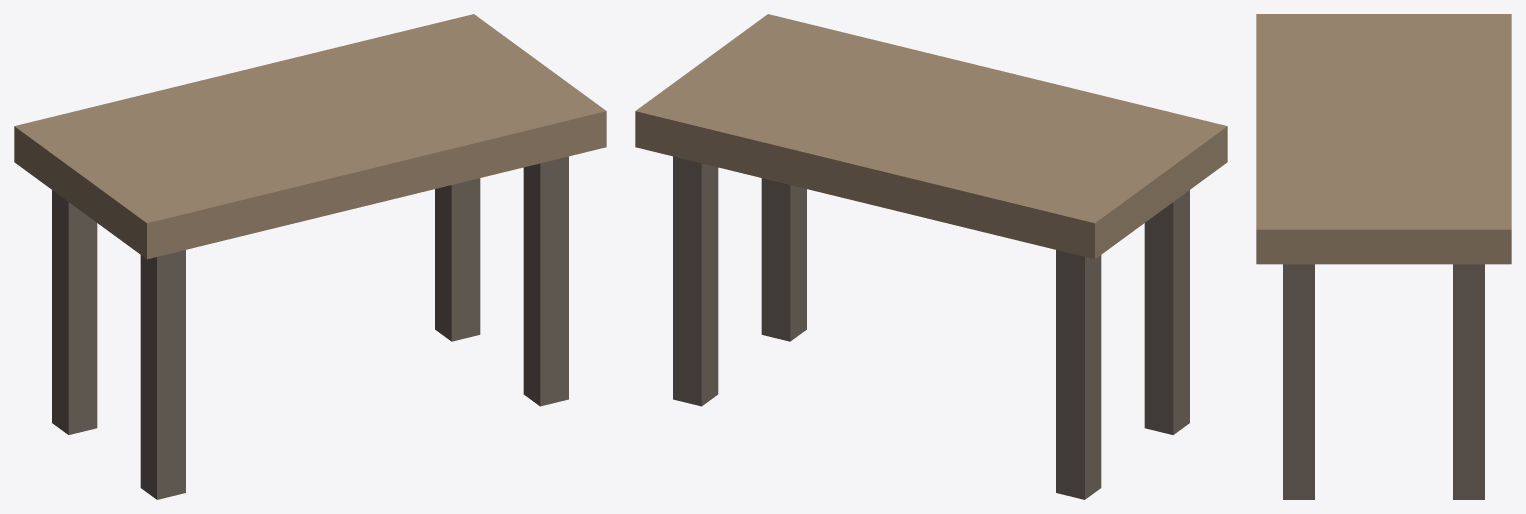
File: folding_table.glb
3 renders of one model, left to right at view 1: azimuth 30°, elevation 25°; view 2: azimuth 150°, elevation 25°; view 3: azimuth 270°, elevation 25°, orthographic. The views are drawn at different scales.
Visible parts, largest first — view 1: body; view 2: body; view 3: body.
Part boxes in pixels (x1,y1,x2,y2): body: (14,14,606,499); body: (635,14,1227,499); body: (1256,14,1511,499).
Bounding box in the file's own units: 1.2 × 0.73 × 0.6.
